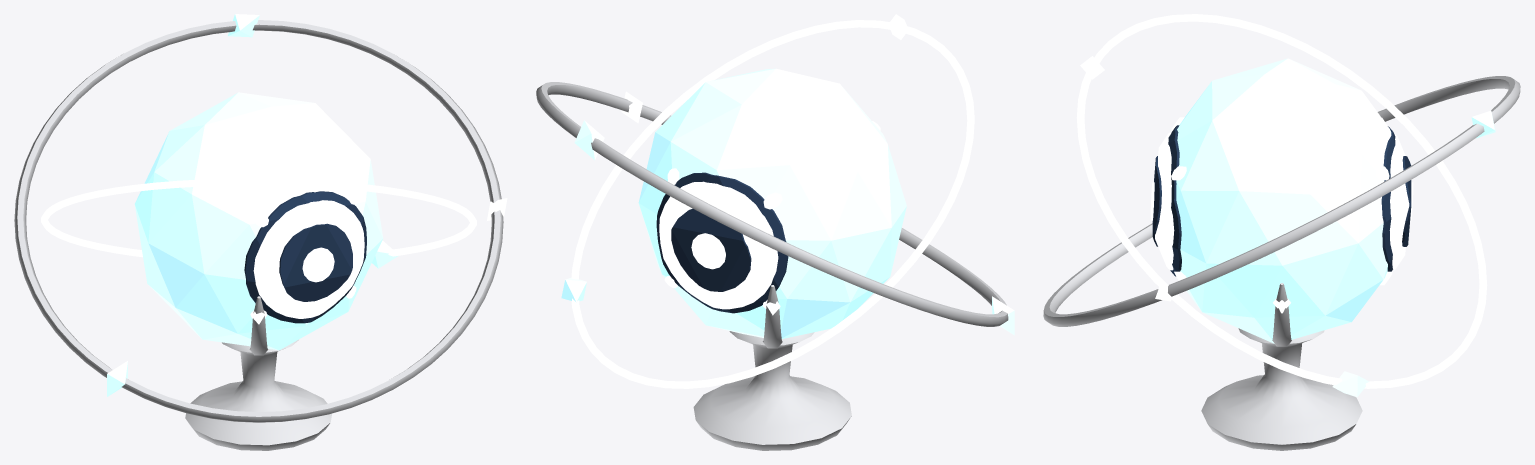
File: sora_orbital.glb
The picture shows the model from 3 angles, left to right: view 1: azimuth 30°, elevation 25°; view 2: azimuth 150°, elevation 25°; view 3: azimuth 270°, elevation 25°; orthographic projection. The views are drawn at different scales.
Visible parts, largest first — view 1: sora_orbital; view 2: sora_orbital; view 3: sora_orbital.
Part boxes in pixels (left/top/right/bottom): sora_orbital: left=14, top=14, right=507, bottom=450; sora_orbital: left=536, top=14, right=1014, bottom=450; sora_orbital: left=1043, top=14, right=1520, bottom=450.
Bounding box in the file's own units: 0.315 × 0.2359 × 0.2923.
